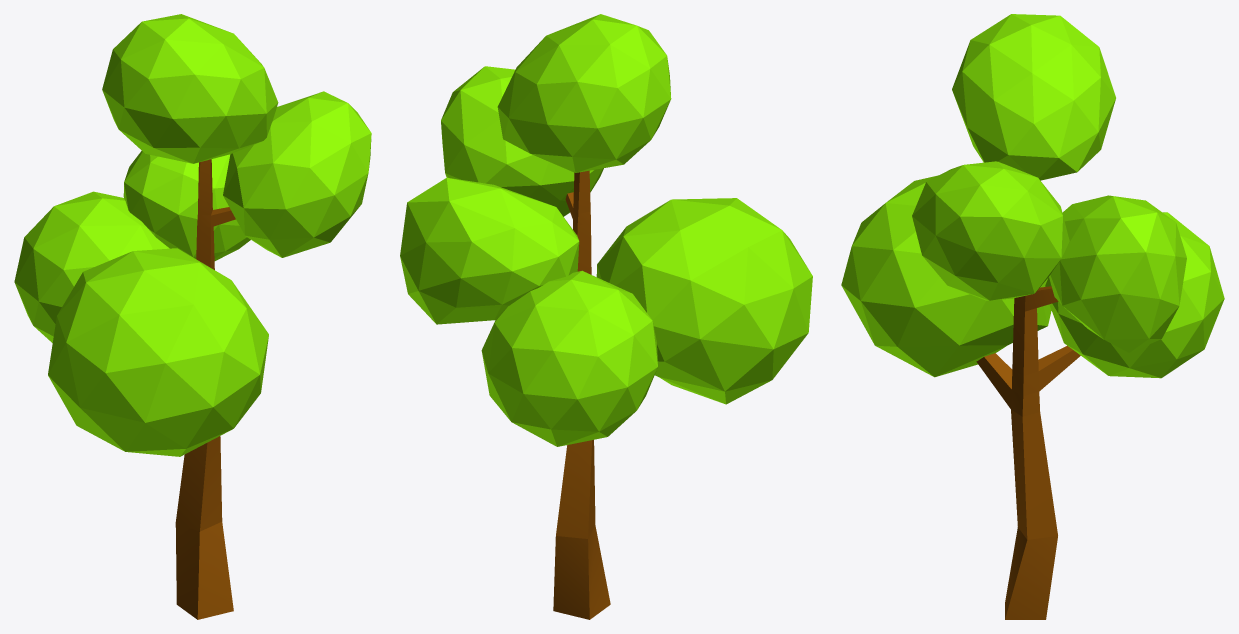
The model's file is Tree8.dae.
The picture shows the model from 3 angles, left to right: view 1: azimuth 30°, elevation 25°; view 2: azimuth 150°, elevation 25°; view 3: azimuth 270°, elevation 25°; orthographic projection. The views are drawn at different scales.
Visible parts, largest first — view 1: Tree8; view 2: Tree8; view 3: Tree8.
Boxes of the visible parts, bbox=[...] form: Tree8: bbox=[14, 14, 371, 619]; Tree8: bbox=[400, 14, 812, 619]; Tree8: bbox=[841, 14, 1224, 619].
Bounding box in the file's own units: 3.84 × 6.87 × 4.12.
